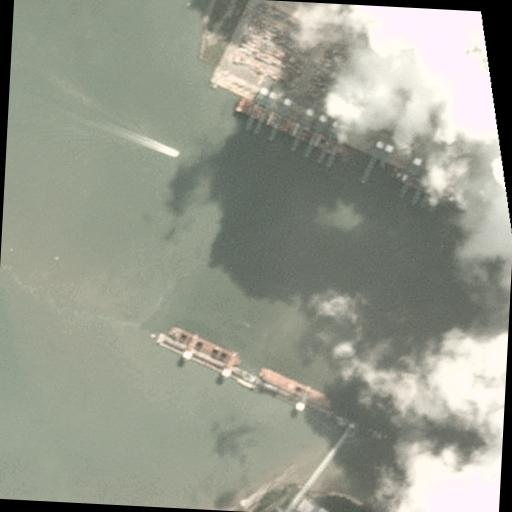ship: (232, 96, 344, 158), (258, 364, 330, 410), (0, 7, 72, 53), (168, 328, 244, 368), (168, 150, 180, 158)
